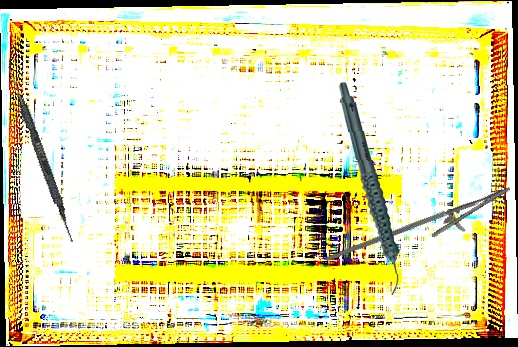Handpiece: (337, 80, 403, 297)
Needle Holder: (325, 165, 518, 296)
Spatula Surgical: (0, 59, 80, 244)
